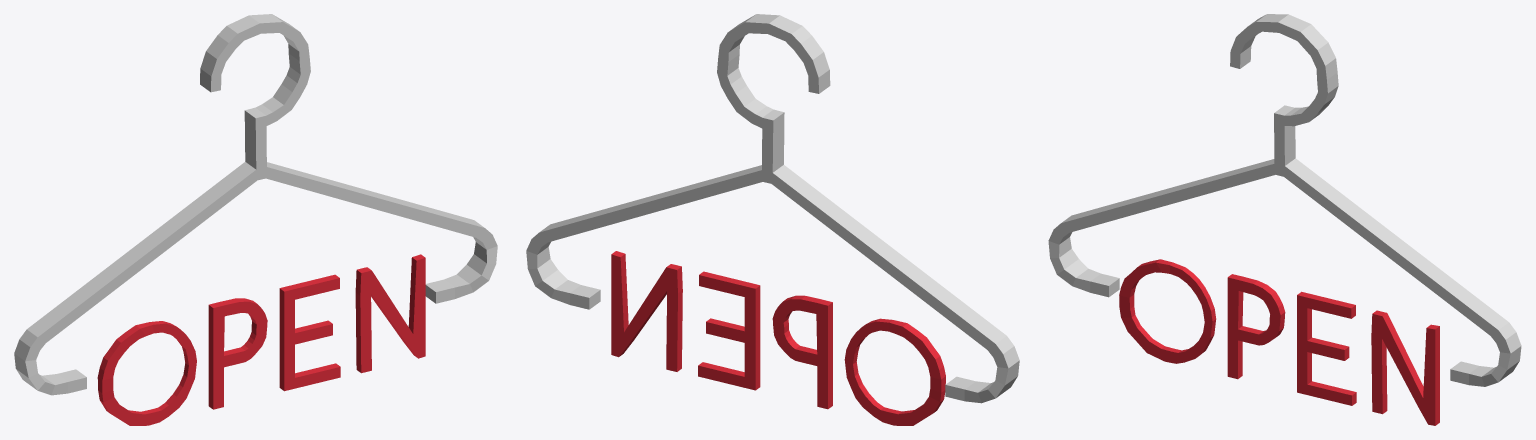
File: OpenSign.fbx
The picture shows the model from 3 angles, left to right: view 1: azimuth 30°, elevation 25°; view 2: azimuth 150°, elevation 25°; view 3: azimuth 330°, elevation 25°; orthographic projection. The views are drawn at different scales.
Parts seen in each view (by area): view 1: Cube; view 2: Cube; view 3: Cube.
Part boxes in pixels (box(x1,y1,x2,y2)): Cube: box(14, 14, 497, 425); Cube: box(526, 14, 1019, 425); Cube: box(1048, 14, 1521, 425).
Size of the model in its own units: 3.99 by 0.2272 by 3.01.
